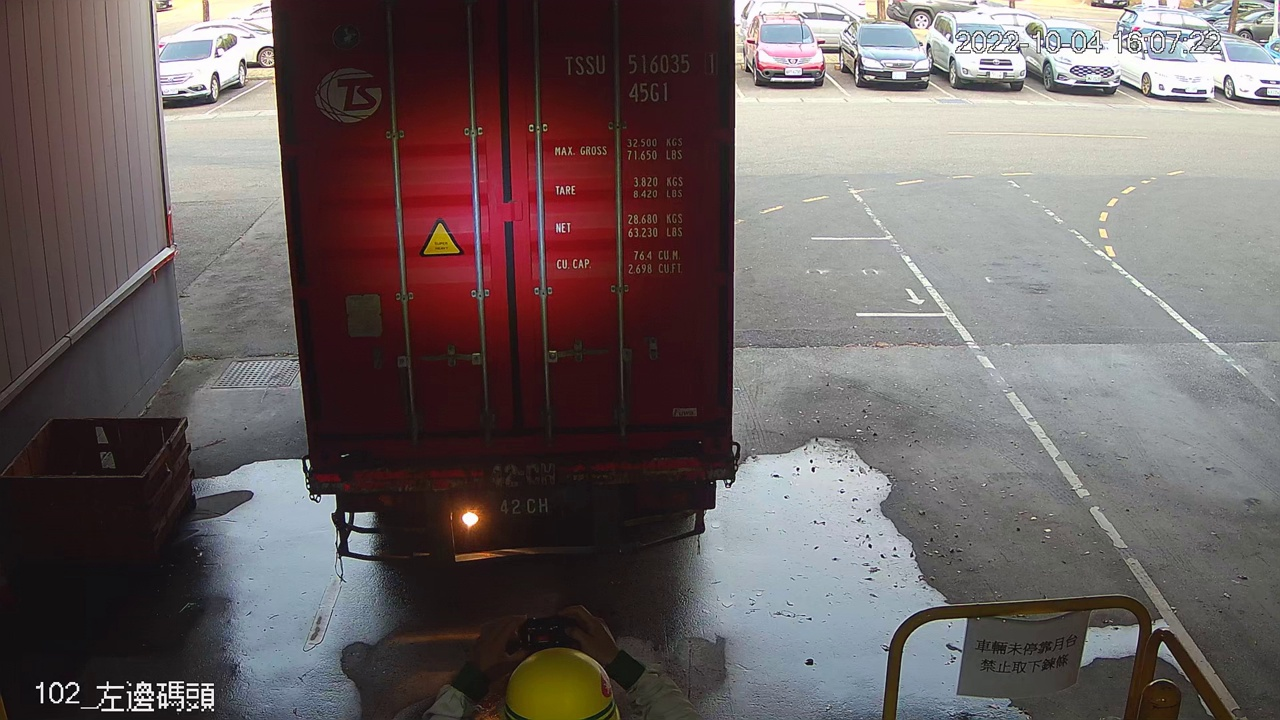container: (555, 49, 722, 108)
